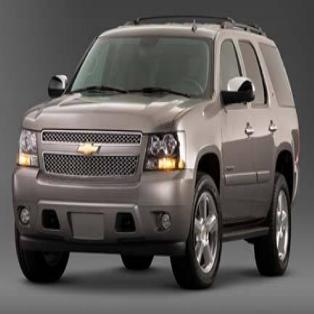Auto: (14, 14, 301, 287)
